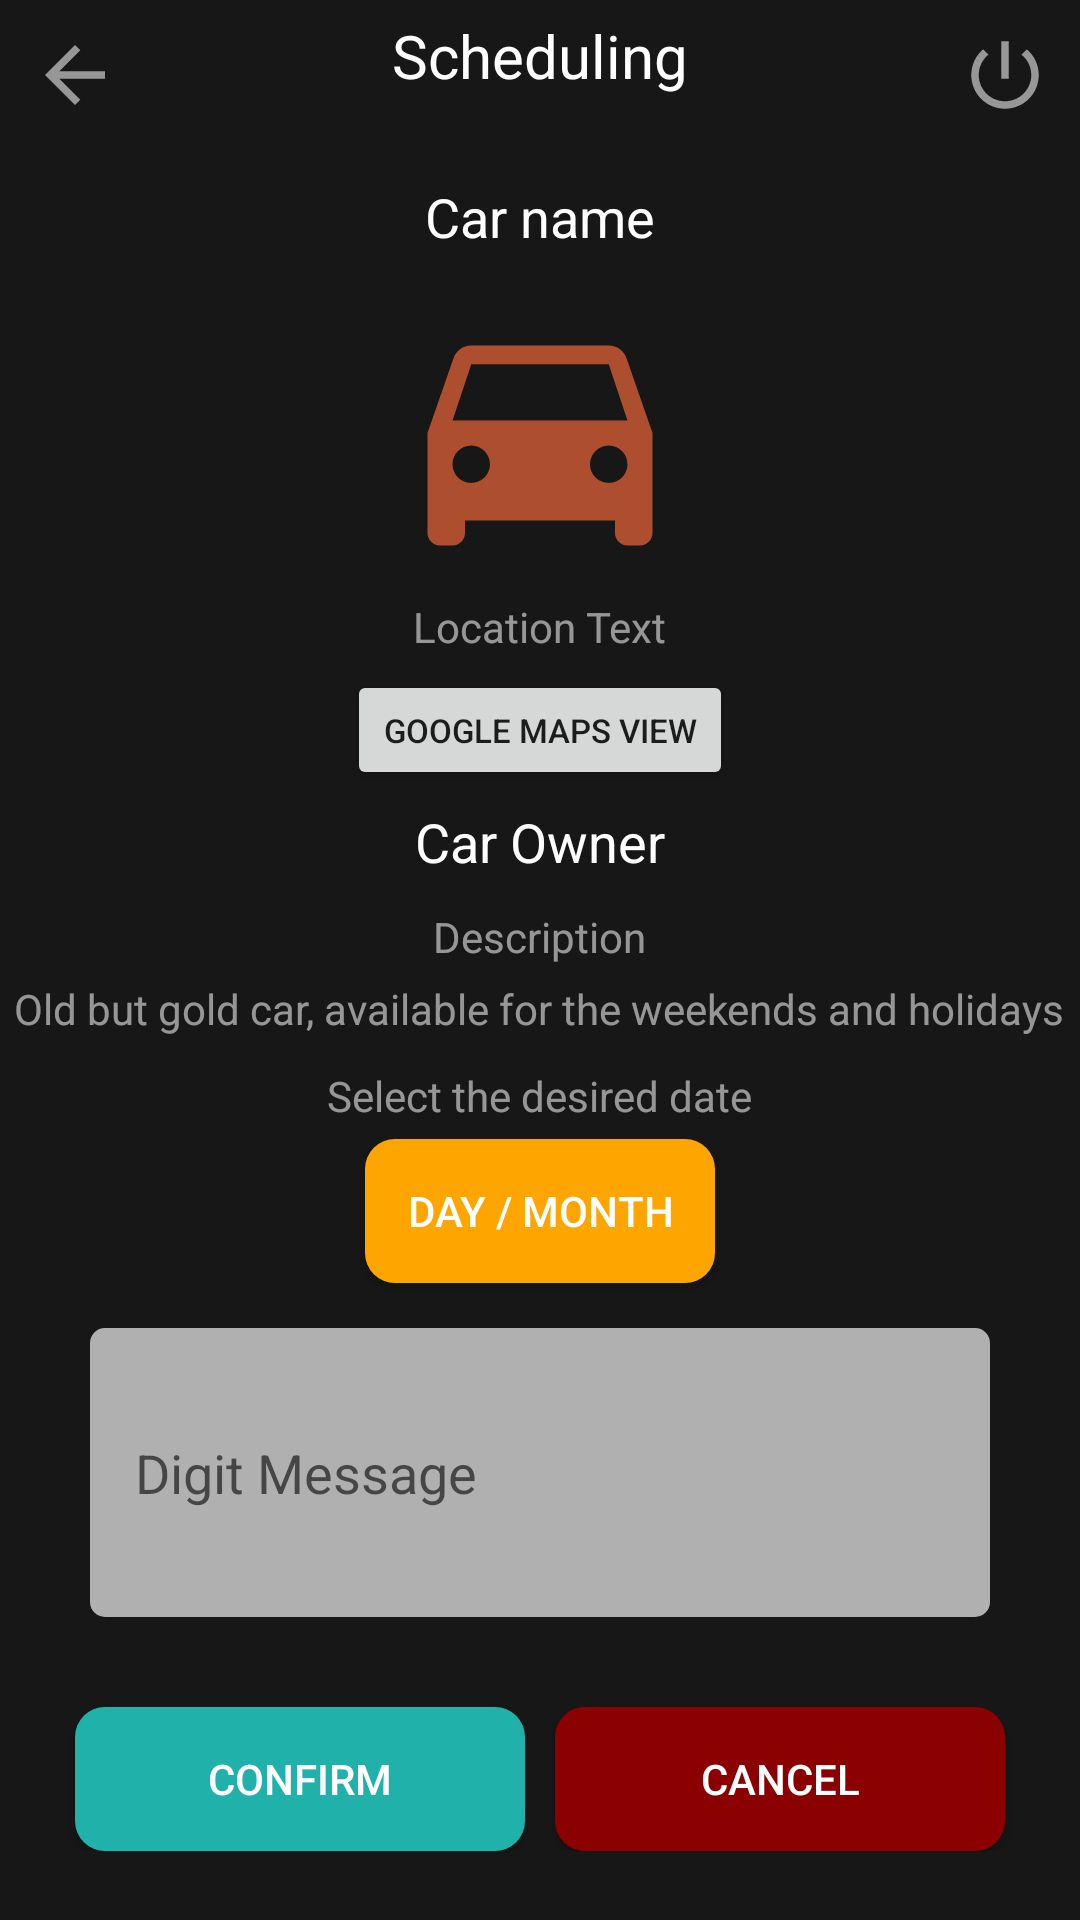

Screen size 1080px×1920px. Icon name, then its center in pixels as (x=x, y=y):
backarrow: (x=75, y=75)
poweroff: (x=1005, y=75)
